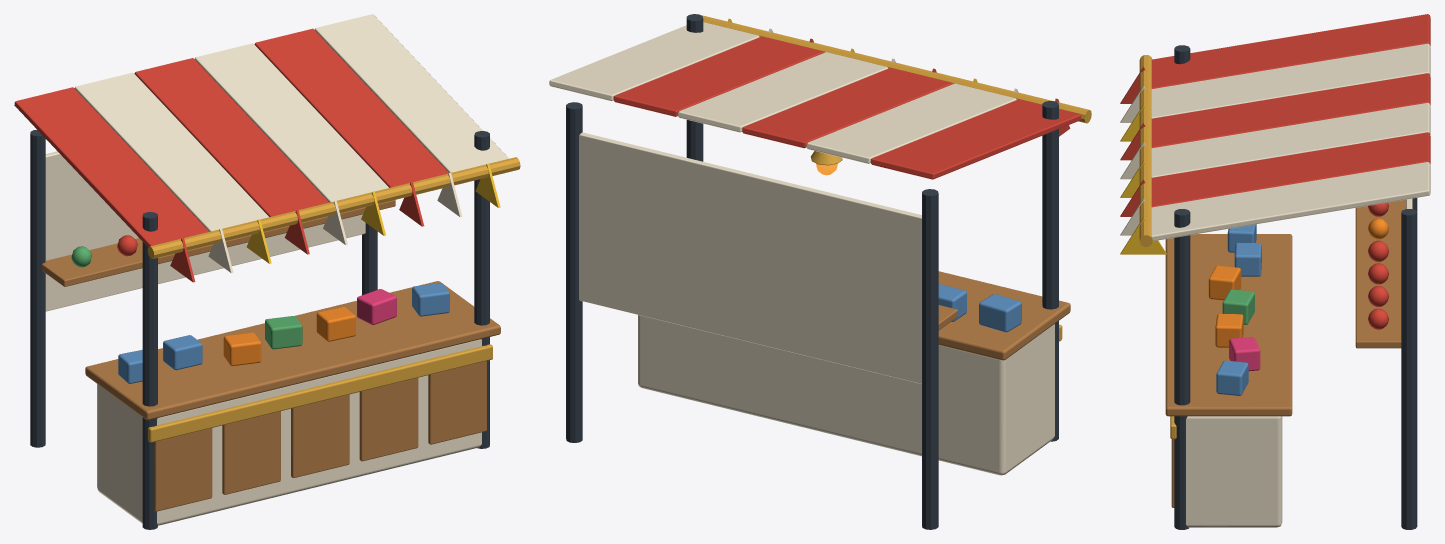
Rendered from market_stall.glb.
3 views of the same model, side by side, from view 1: azimuth 30°, elevation 25°; view 2: azimuth 150°, elevation 25°; view 3: azimuth 270°, elevation 25° (orthographic). The views are drawn at different scales.
Visible parts, largest first — view 1: market_stall_body; view 2: market_stall_body; view 3: market_stall_body.
Part boxes in pixels (x1=…): market_stall_body: x1=14, y1=14, x2=520, y2=529; market_stall_body: x1=549, y1=14, x2=1091, y2=529; market_stall_body: x1=1120, y1=14, x2=1430, y2=529.
Bounding box in the file's own units: 3.2 × 2.83 × 2.32.
